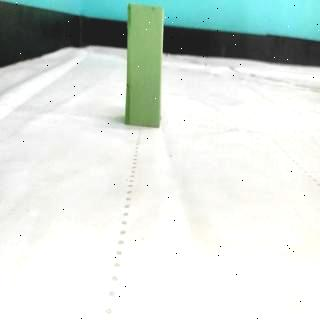greenbox: (125, 3, 164, 128)
